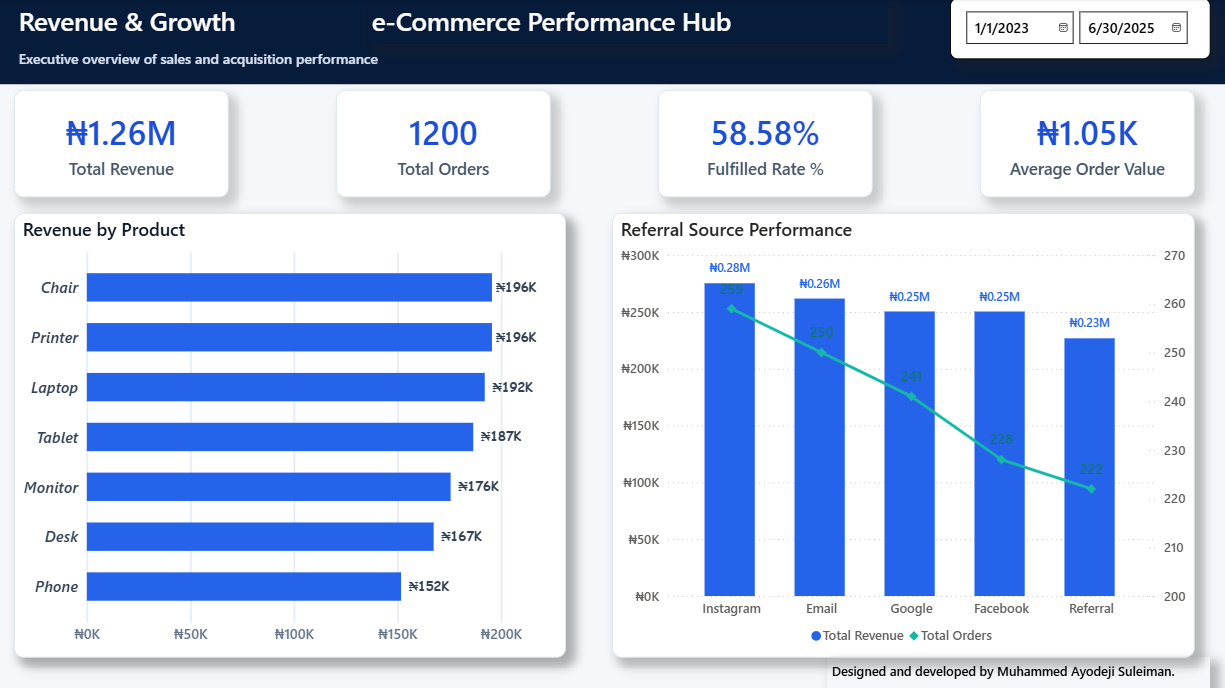

This screenshot's page, from the dashboard's own definition file:
{"tool":"powerbi","page":{"name":"Page 1","canvas":[1280,720],"ordinal":0},"visuals":[{"type":"shape","box":[0,0,1280,90],"z":0},{"type":"card","fields":{"Values":["CleanedData.Total Revenue"]},"box":[16,96,224,112],"z":1000},{"type":"card","fields":{"Values":["CleanedData.Total Orders"]},"box":[352,96,224,112],"z":2000},{"type":"card","fields":{"Values":["CleanedData.Average Order Value"]},"box":[1024,96,224,112],"z":3000},{"type":"card","fields":{"Values":["CleanedData.Fulfilled Rate %"]},"box":[688,96,224,112],"z":4000},{"type":"clusteredBarChart","title":"Revenue by Product","fields":{"Category":["CleanedData.Product"],"Y":["CleanedData.Total Revenue"]},"box":[16,224,576,464],"z":5000},{"type":"textbox","box":[16,0,336,48],"z":6000},{"type":"textbox","box":[16,48,400,32],"z":7000},{"type":"slicer","fields":{"Values":["CleanedData.Date"]},"box":[992,0,272,64],"z":8000},{"type":"lineClusteredColumnComboChart","title":"Referral Source Performance","fields":{"Category":["CleanedData.ReferralSource"],"Y":["CleanedData.Total Revenue"],"Y2":["CleanedData.Total Orders"]},"box":[640,224,608,464],"z":9000},{"type":"textbox","box":[864,688,400,32],"z":9001},{"type":"textbox","box":[384,0,544,48],"z":9002}]}

Visuals, with their boxes in screenshot pixels (x1, y1, x2, y2), scaled from the page's 1280x720 canvas onto the 1225x688 screenshot:
shape: 0:0:1224:86
card - CleanedData.Total Revenue: 15:92:230:199
card - CleanedData.Total Orders: 337:92:551:199
card - CleanedData.Average Order Value: 980:92:1194:199
card - CleanedData.Fulfilled Rate %: 658:92:873:199
"Revenue by Product" clusteredBarChart: 15:214:567:657
textbox: 15:0:337:46
textbox: 15:46:398:76
slicer - CleanedData.Date: 949:0:1210:61
"Referral Source Performance" lineClusteredColumnComboChart: 612:214:1194:657
textbox: 827:657:1210:687
textbox: 368:0:888:46
